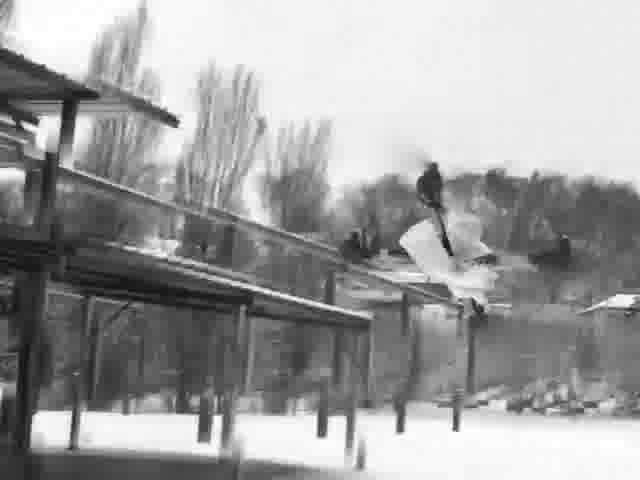drone: (325, 148, 595, 344)
